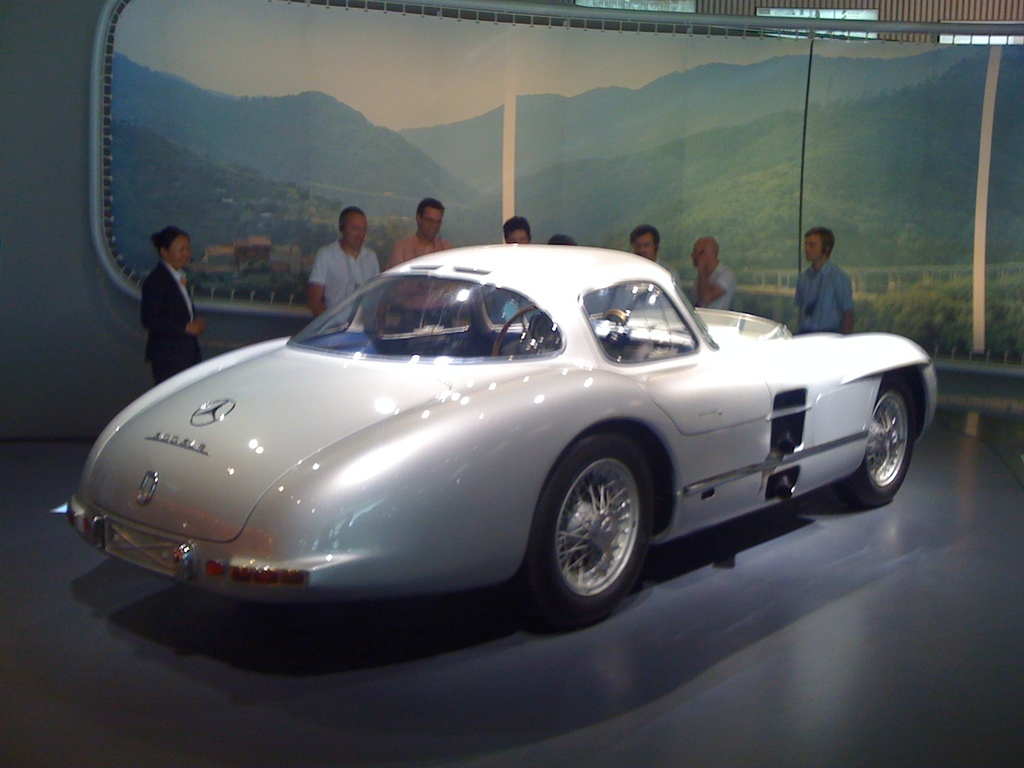Car: (61, 240, 948, 617)
